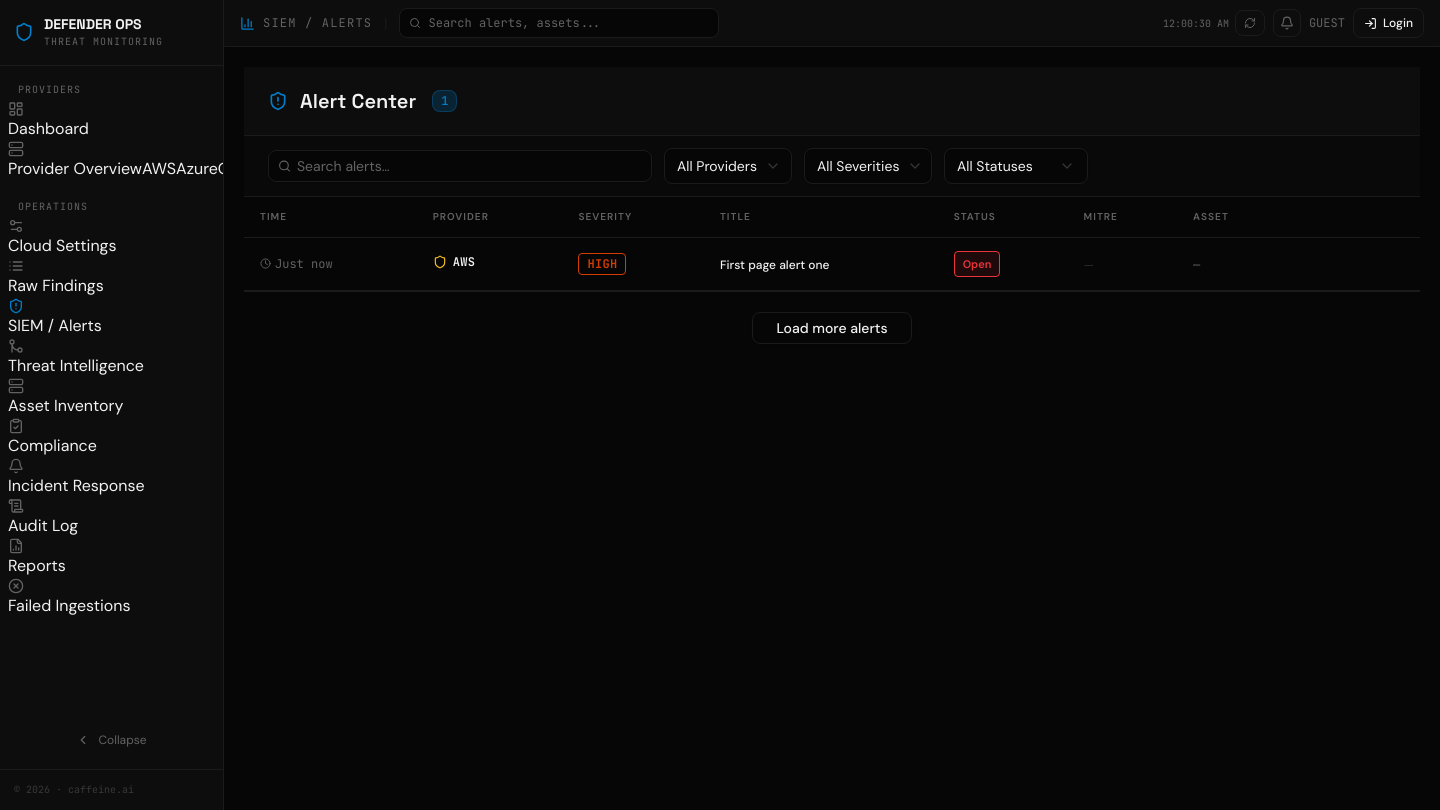
AlertsPage cursor pagination (cover) › shows the end-of-list marker once the last page has no next cursor
Click the button with test id "alerts.load_more_button" at {"x": 832, "y": 328}, box x1=752 y1=312 x2=912 y2=344
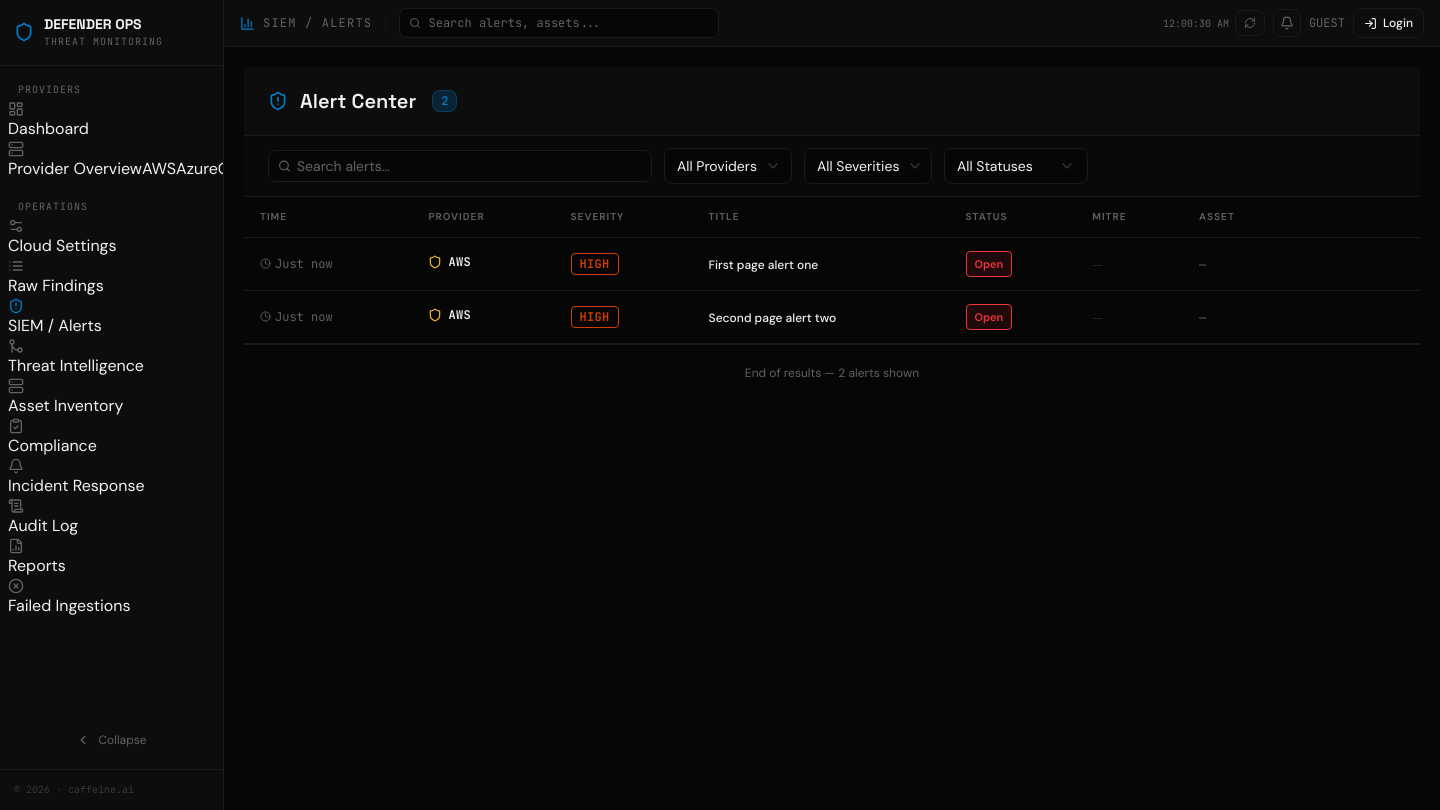
expect the text "End of results — 2 alerts shown" is shown: met, box x1=745 y1=365 x2=919 y2=381
